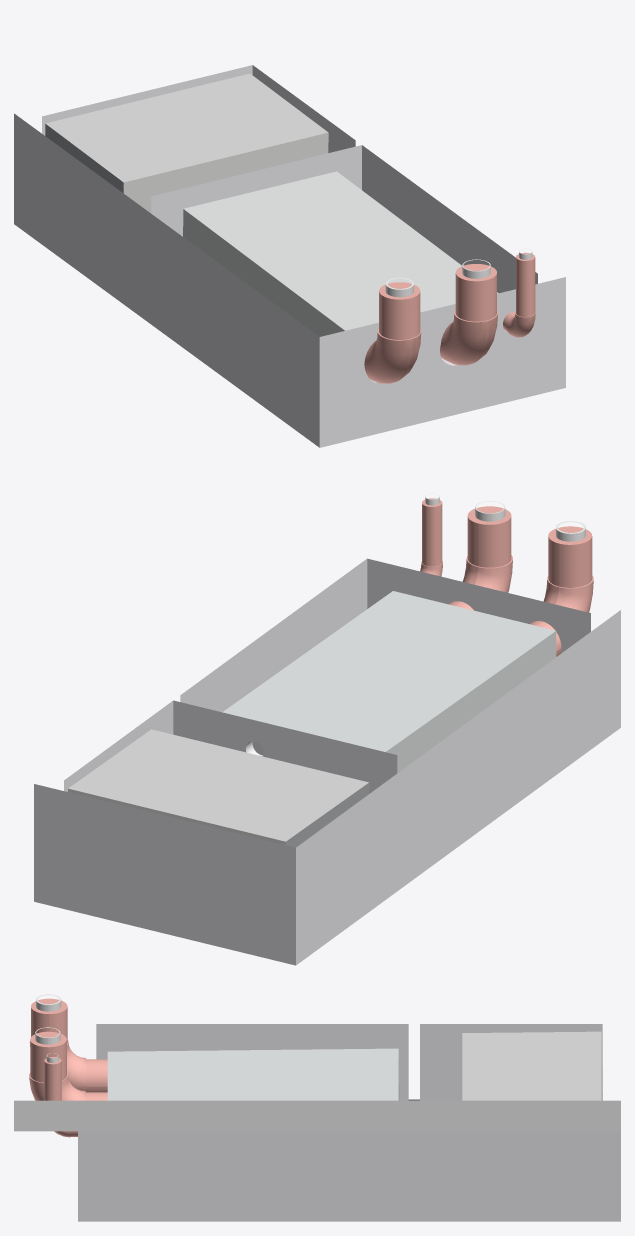
3 renders of one model, top to bottom at view 1: azimuth 30°, elevation 25°; view 2: azimuth 150°, elevation 25°; view 3: azimuth 270°, elevation 25°, orthographic. The views are drawn at different scales.
Parts seen in each view (by area): view 1: Group8, Group4, AC_UNIT_002_1, Group7, Group6, ___________2606098_2_MEP2, ___________2606098_2_MEP3, Group5; view 2: Group8, Group4, AC_UNIT_002_1, Group7, Group6, Group5, ___________2606098_2_MEP2, ___________2606098_2_MEP3; view 3: Group8, Model, Group4, AC_UNIT_002_1, Group7, Group6, Group5, ___________2606098_2_MEP3, ___________2606098_2_MEP2.
Boxes of the visible parts, x1,y1,x2,y2 form: Group8: [14, 65, 565, 447]; Group4: [183, 171, 498, 357]; AC_UNIT_002_1: [45, 73, 328, 213]; Group7: [379, 278, 420, 339]; Group6: [455, 259, 496, 321]; ___________2606098_2_MEP2: [440, 310, 497, 365]; ___________2606098_2_MEP3: [364, 328, 421, 383]; Group5: [503, 248, 535, 331]; Group8: [34, 558, 620, 965]; Group4: [222, 591, 556, 773]; AC_UNIT_002_1: [68, 729, 369, 847]; Group7: [530, 521, 592, 656]; Group6: [449, 501, 511, 610]; Group5: [422, 493, 442, 566]; ___________2606098_2_MEP2: [462, 555, 512, 592]; ___________2606098_2_MEP3: [543, 575, 593, 612]; Group8: [78, 1024, 620, 1221]; Model: [14, 1100, 620, 1131]; Group4: [107, 1048, 399, 1100]; AC_UNIT_002_1: [462, 1031, 602, 1100]; Group7: [31, 994, 107, 1092]; Group6: [30, 1027, 107, 1100]; Group5: [44, 1053, 77, 1136]; ___________2606098_2_MEP3: [29, 1040, 86, 1091]; ___________2606098_2_MEP2: [29, 1073, 85, 1100].
Size of the model in its own units: 0.0119 by 0.0069 by 0.0266.
